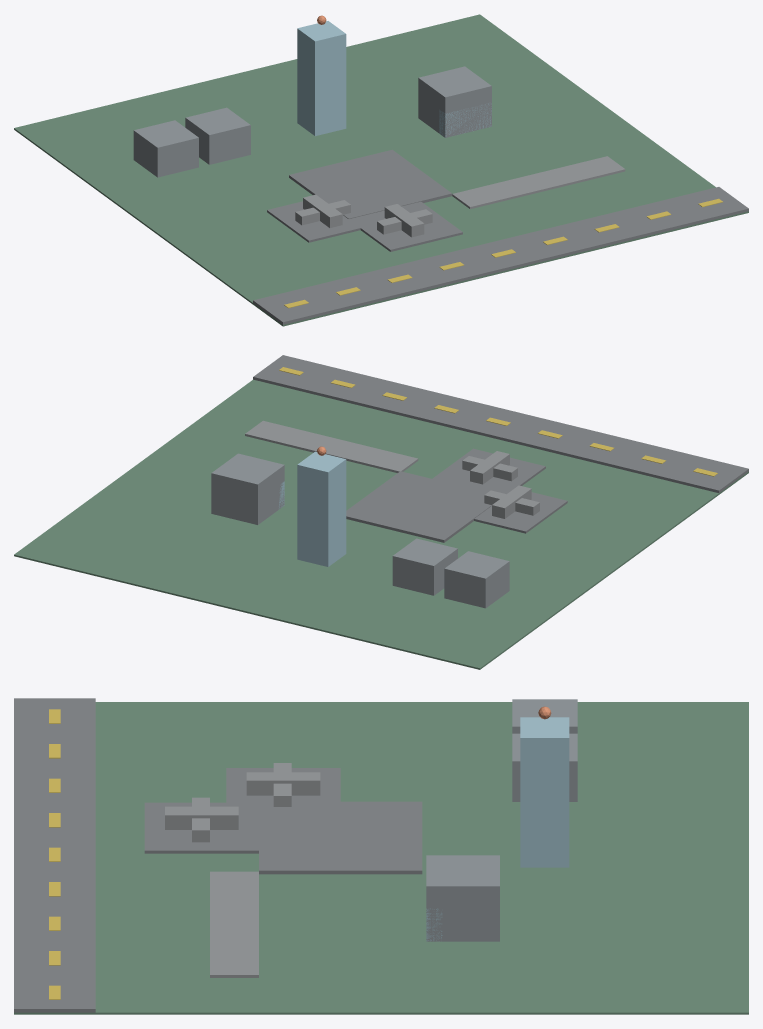
Rendered from stage_08.glb.
3 views of the same model, one above another, from view 1: azimuth 30°, elevation 25°; view 2: azimuth 150°, elevation 25°; view 3: azimuth 270°, elevation 25° (orthographic). The views are drawn at different scales.
Visible parts, largest first — view 1: geometry_0; view 2: geometry_0; view 3: geometry_0.
Part boxes in pixels (x1,y1,x2,y2): geometry_0: (14, 14, 748, 326); geometry_0: (14, 355, 748, 669); geometry_0: (14, 698, 748, 1014).
Bounding box in the file's own units: 9 × 2.06 × 9.
